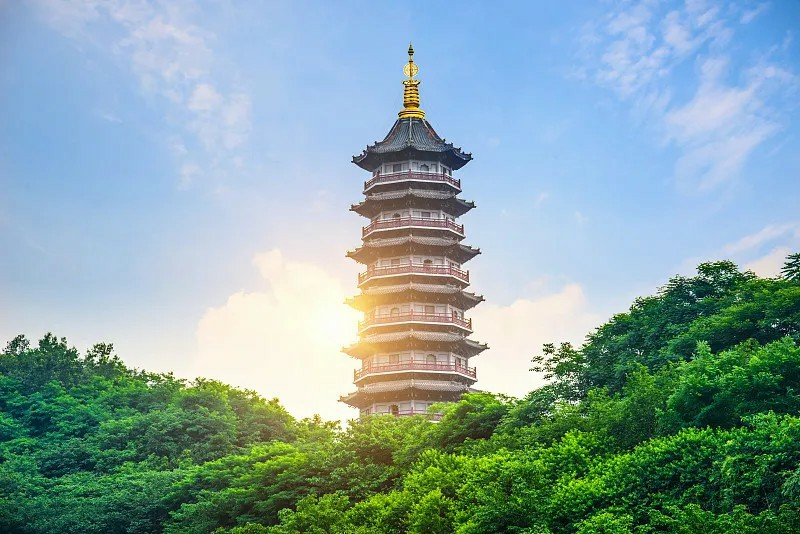Leifeng: (337, 40, 490, 433)
